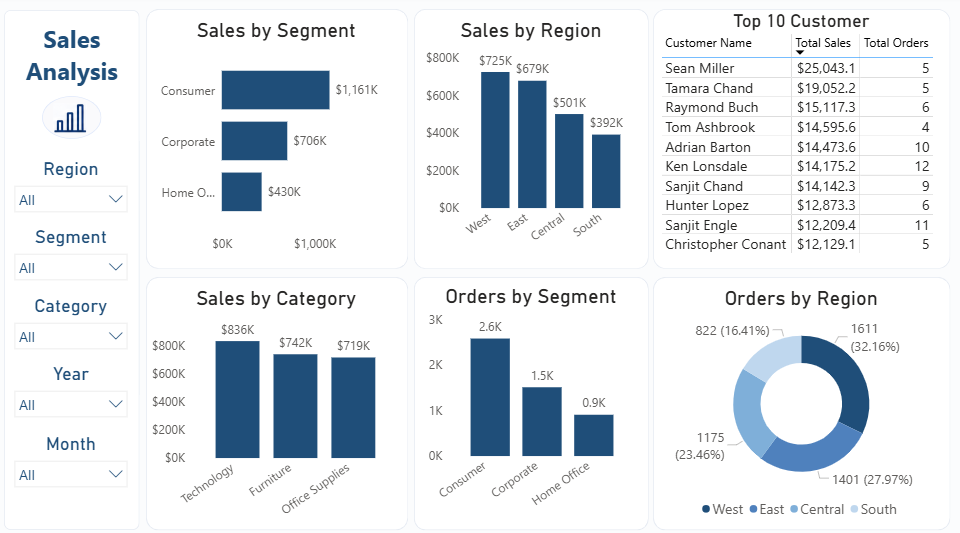

The page's visual inventory and layout, read from the dashboard file:
{"tool":"powerbi","page":{"name":"Sales Analysis","canvas":[1280,720],"ordinal":1},"visuals":[{"type":"shape","box":[199,17.6,348.3,345.4],"z":0},{"type":"shape","box":[554.6,17.6,311.7,345.4],"z":1000},{"type":"shape","box":[872.2,17.6,395.1,345.4],"z":2000},{"type":"shape","box":[199,373.2,348.3,336.6],"z":3000},{"type":"shape","box":[554.6,373.2,311.7,336.6],"z":4000},{"type":"shape","box":[872.2,373.2,395.1,336.6],"z":5000},{"type":"clusteredBarChart","title":"Sales by Segment","fields":{"Y":["All Measures.Total Sales"],"Category":["Orders.Segment"]},"box":[202,29.3,341,320.5],"z":6000},{"type":"clusteredColumnChart","title":"Sales by Category","fields":{"Category":["Orders.Category"],"Y":["All Measures.Total Sales"]},"box":[202,384.9,341,317.6],"z":7000},{"type":"clusteredColumnChart","title":"Sales by Region","fields":{"Y":["All Measures.Total Sales"],"Category":["People.Region"]},"box":[566.3,29.3,289.8,320.5],"z":8000},{"type":"tableEx","title":"Top 10 Customer","fields":{"Values":["Orders.Customer Name","All Measures.Total Sales","All Measures.Total Orders"]},"box":[878,19,383.4,341],"z":9000},{"type":"clusteredColumnChart","title":"Orders by Segment","fields":{"Y":["All Measures.Total Orders"],"Category":["Orders.Segment"]},"box":[566.3,382,289.8,317.6],"z":10000},{"type":"donutChart","title":"Orders by Region","fields":{"Category":["People.Region"],"Y":["All Measures.Total Orders"]},"box":[878,384.9,383.4,317.6],"z":11000},{"type":"shape","box":[10.2,19,180,690.7],"z":12000},{"type":"textbox","box":[17.6,29.3,166.8,103.9],"z":13000},{"type":"slicer","title":"Region","fields":{"Values":["Orders.Region"]},"box":[14.6,215.1,169.8,90.7],"z":14000},{"type":"slicer","title":"Segment","fields":{"Values":["Orders.Segment"]},"box":[14.6,305.9,169.8,90.7],"z":15000},{"type":"slicer","title":"Category","fields":{"Values":["Orders.Category"]},"box":[14.6,396.6,169.8,90.7],"z":16000},{"type":"slicer","title":"Year","fields":{"Values":["Calendar.Year"]},"box":[14.6,487.3,169.8,90.7],"z":17000},{"type":"slicer","title":"Month","fields":{"Values":["Calendar.Month"]},"box":[14.6,581,169.8,90.7],"z":18000},{"type":"shape","box":[61.5,133.2,79,57.1],"z":19000},{"type":"image","box":[76.1,139,45.4,45.4],"z":20000}]}

Visuals, with their boxes in screenshot pixels (x1, y1, x2, y2), scaled from the page's 1280x720 canvas onto the 960x533 screenshot:
shape: 149:13:410:269
shape: 416:13:650:269
shape: 654:13:950:269
shape: 149:276:410:525
shape: 416:276:650:525
shape: 654:276:950:525
"Sales by Segment" clusteredBarChart: 152:22:407:259
"Sales by Category" clusteredColumnChart: 152:285:407:520
"Sales by Region" clusteredColumnChart: 425:22:642:259
"Top 10 Customer" tableEx: 658:14:946:266
"Orders by Segment" clusteredColumnChart: 425:283:642:518
"Orders by Region" donutChart: 658:285:946:520
shape: 8:14:143:525
textbox: 13:22:138:99
"Region" slicer: 11:159:138:226
"Segment" slicer: 11:226:138:294
"Category" slicer: 11:294:138:361
"Year" slicer: 11:361:138:428
"Month" slicer: 11:430:138:497
shape: 46:99:105:141
image: 57:103:91:137
